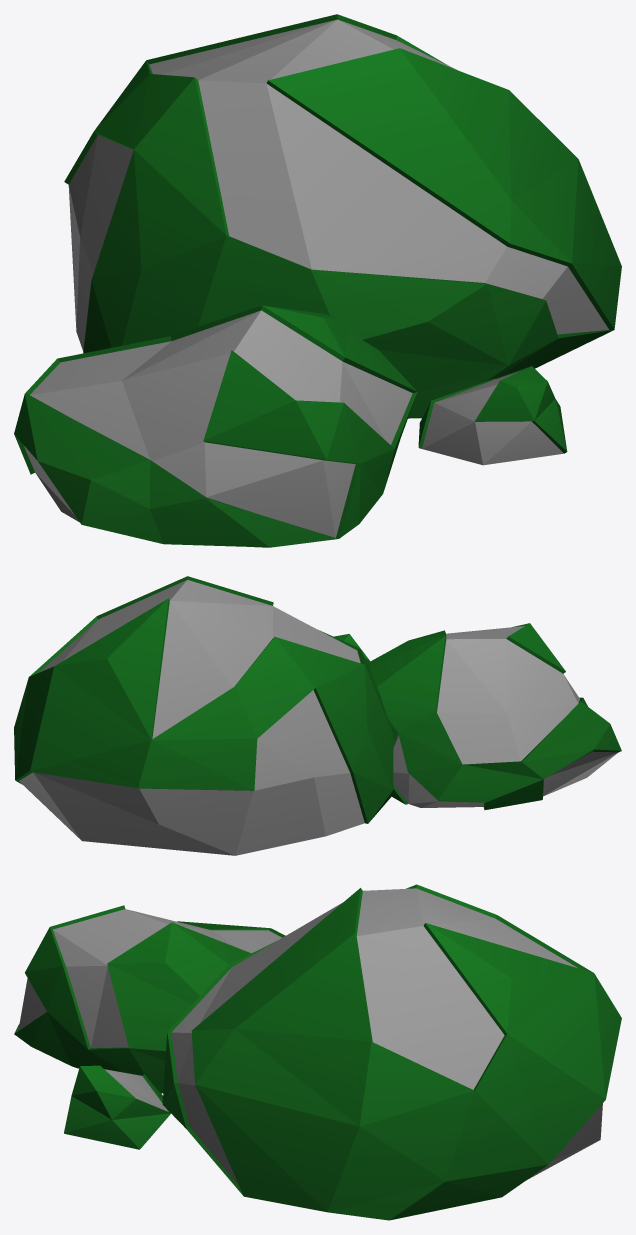
File: Stone_group_average_mossy1.fbx
3 views of the same model, one above another, from view 1: azimuth 30°, elevation 25°; view 2: azimuth 150°, elevation 25°; view 3: azimuth 270°, elevation 25° (orthographic). The views are drawn at different scales.
Visible parts, largest first — view 1: Stone_group_average_mossy; view 2: Stone_group_average_mossy; view 3: Stone_group_average_mossy.
Boxes of the visible parts, bbox=[...] form: Stone_group_average_mossy: bbox=[14, 14, 621, 547]; Stone_group_average_mossy: bbox=[14, 576, 621, 855]; Stone_group_average_mossy: bbox=[14, 884, 621, 1220].
Bounding box in the file's own units: 297 × 115 × 293.
